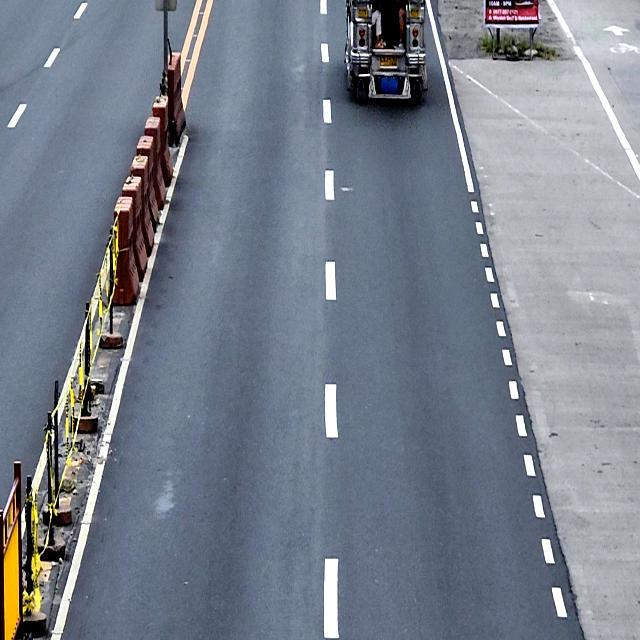Jeep: (344, 0, 428, 104)
License-Plate: (379, 54, 398, 68)
